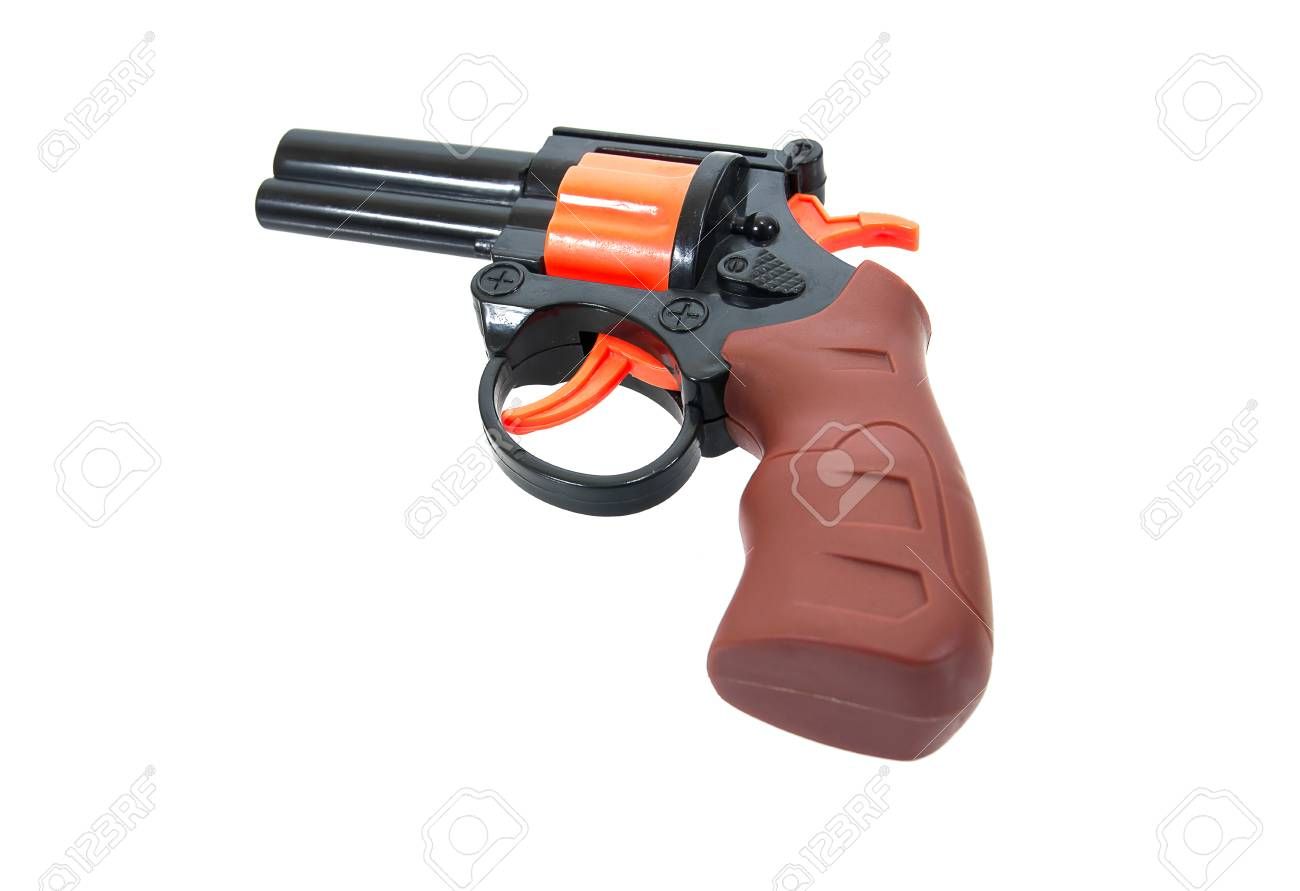Arma Falsa: (252, 119, 995, 770)
